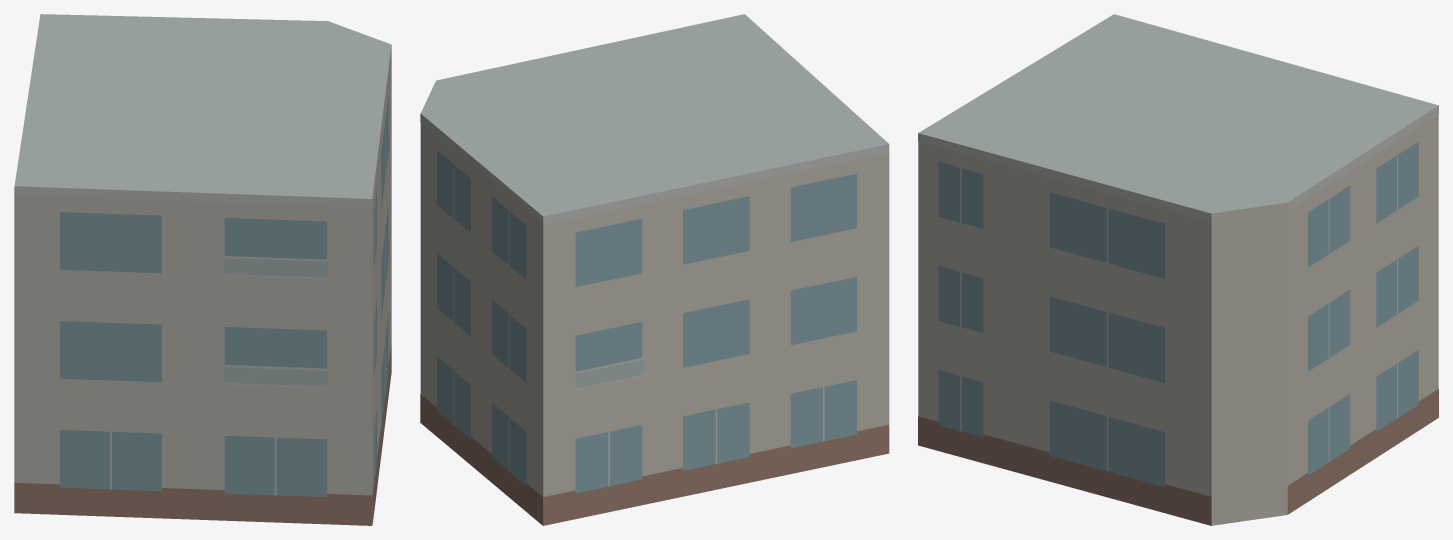
The model's file is survey-upis-32488920.glb.
3 renders of one model, left to right at view 1: azimuth 30°, elevation 25°; view 2: azimuth 150°, elevation 25°; view 3: azimuth 270°, elevation 25°, orthographic. The views are drawn at different scales.
Parts seen in each view (by area): view 1: survey-upis-32488920.tmp; view 2: survey-upis-32488920.tmp; view 3: survey-upis-32488920.tmp.
Boxes of the visible parts, x1,y1,x2,y2 form: survey-upis-32488920.tmp: (14, 14, 391, 525); survey-upis-32488920.tmp: (420, 14, 889, 525); survey-upis-32488920.tmp: (918, 14, 1438, 525).
Size of the model in its own units: 12.27 by 8.95 by 13.53.
